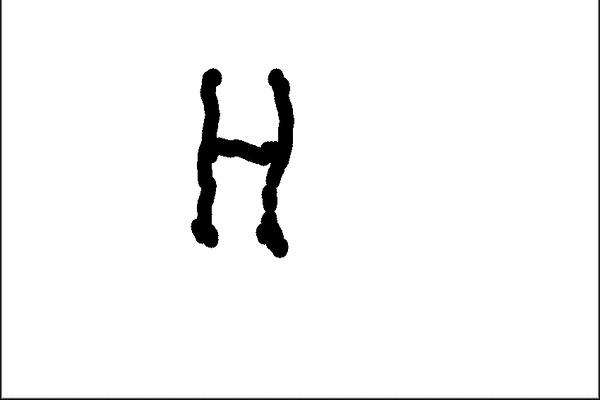H: (184, 60, 298, 260)
